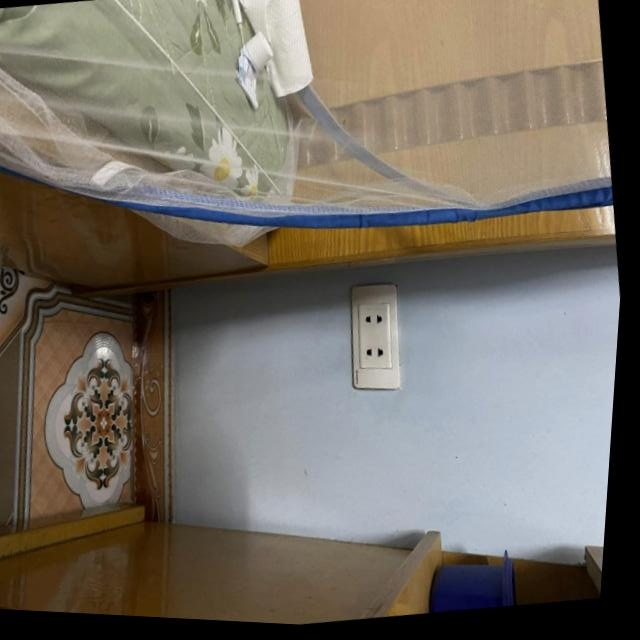outlet: (338, 279, 412, 396)
